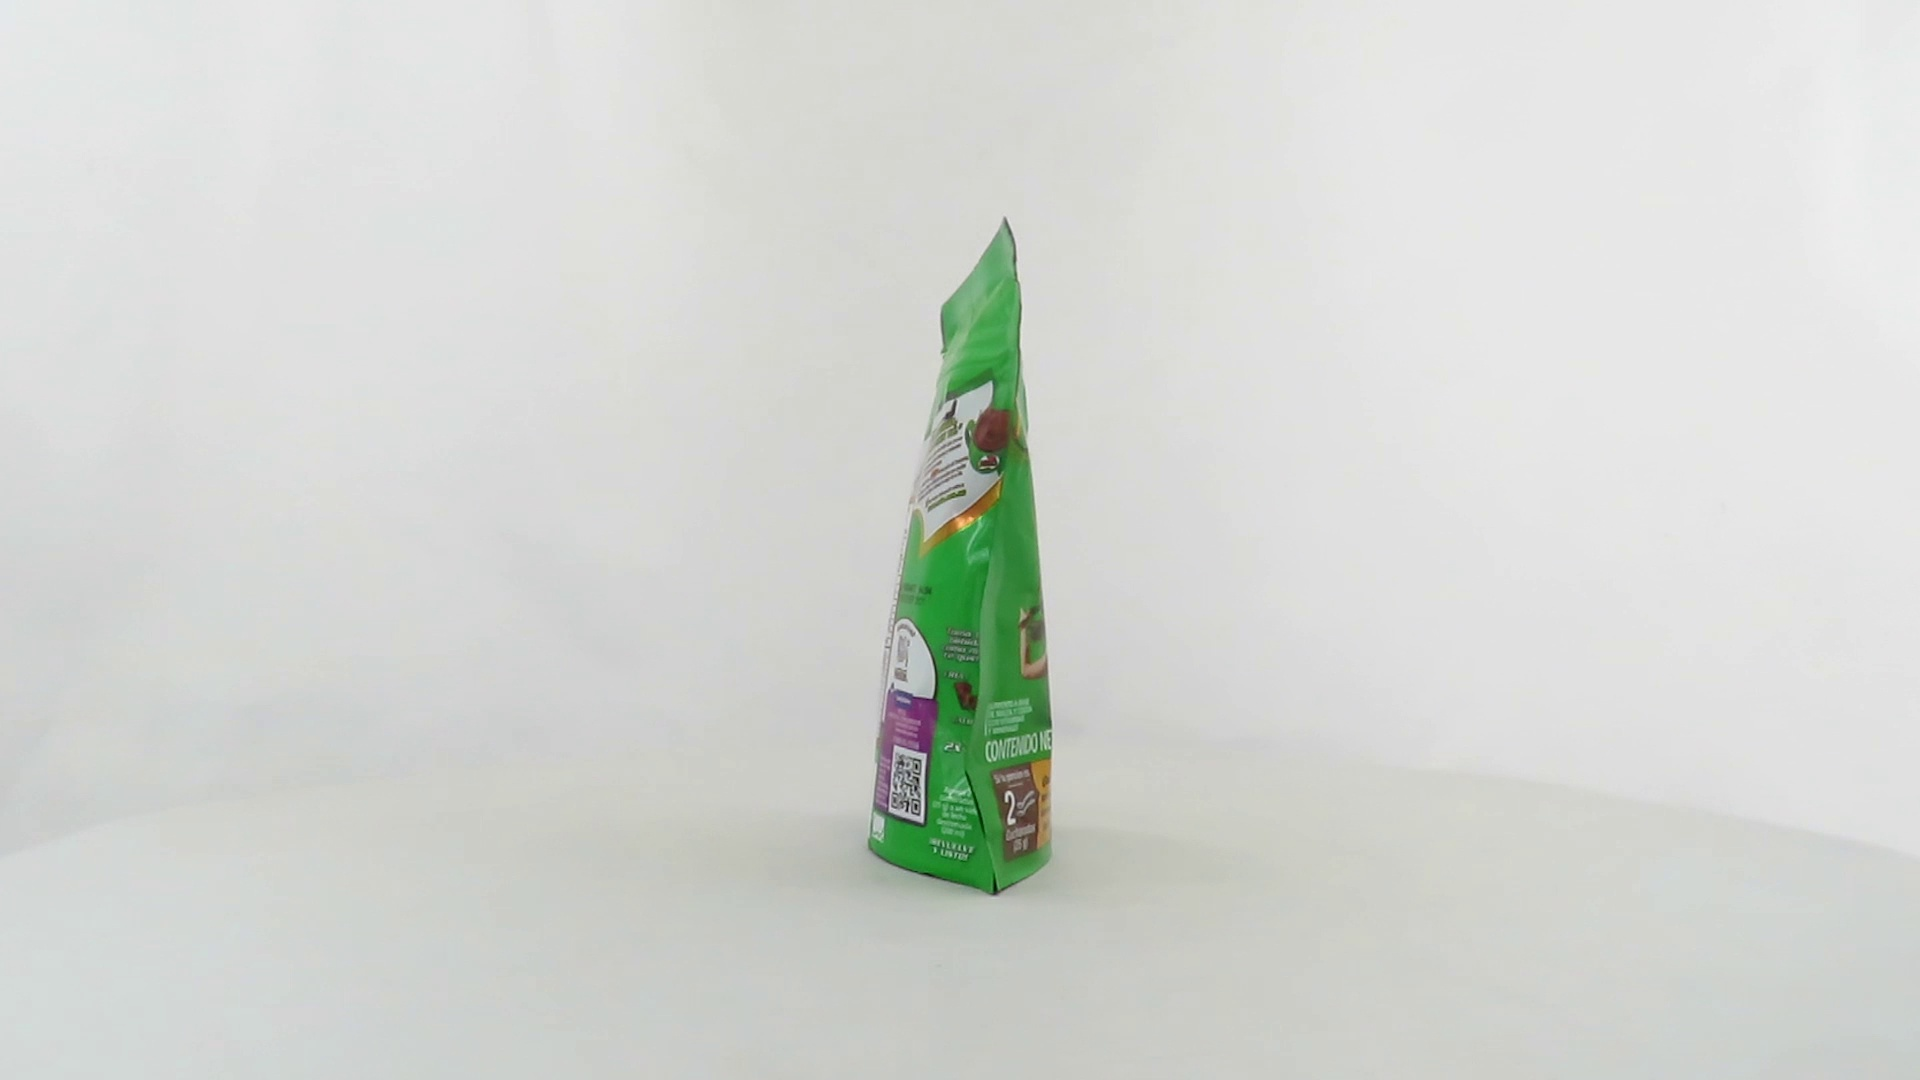COL0170203DYP10000: (862, 211, 1059, 902)
